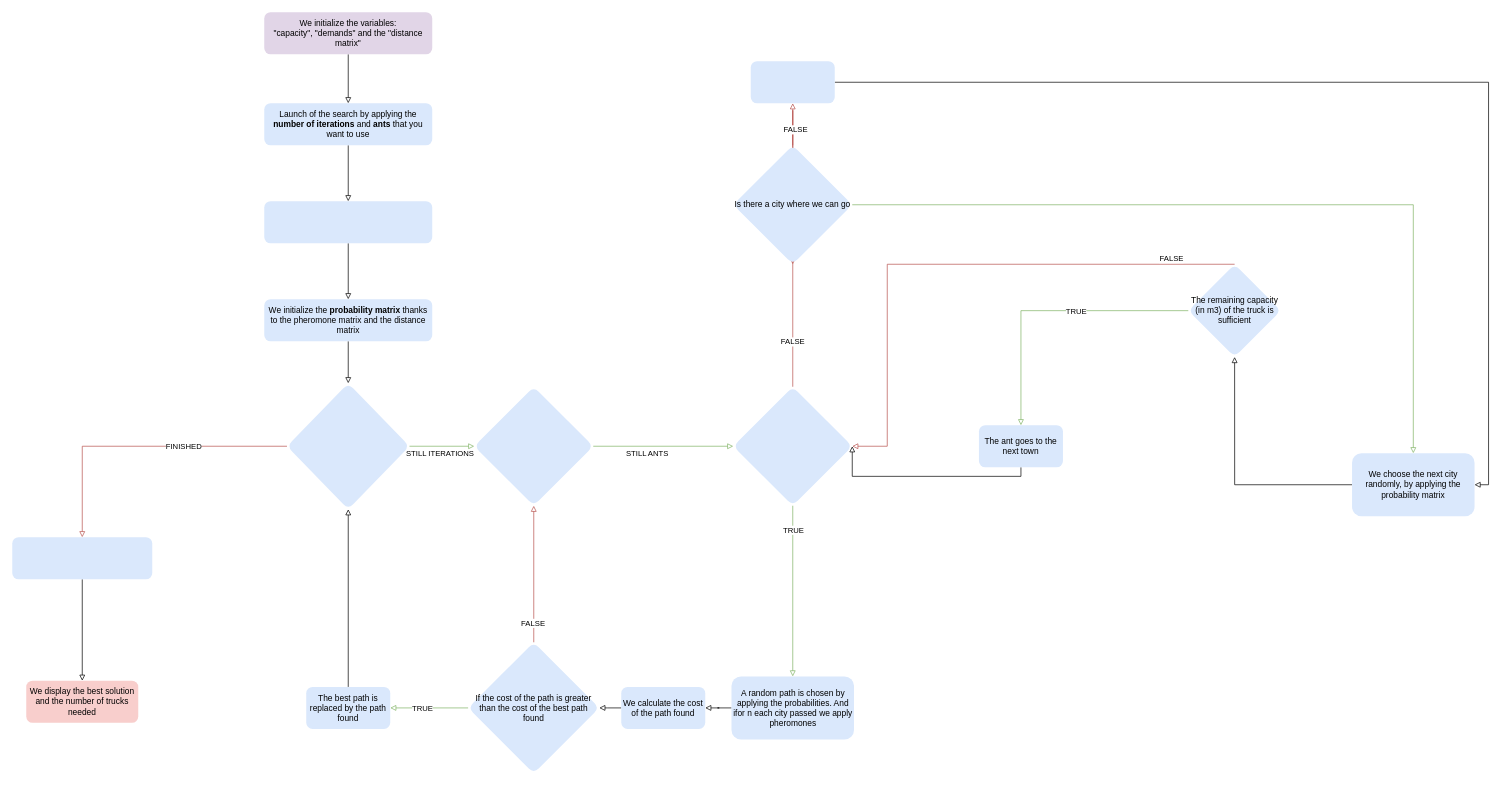
Some shapes in this 1506 by 785 pixel diagram are drawn without their labels. The shapes that lost their labels are listed below. From the top down, each one's centre as x and y in pixels, then its label:
At point (792, 82): "We create an other path to the solution (an other truck)".
At point (348, 222): "We initialize the pheromone map according to the dimension (the number of city)".
At point (348, 446): "For each iteration".
At point (533, 445): "For each ant".
At point (792, 445): "We visited all the cities".
At point (82, 558): "We replace the final solution and its cost with the best solution and its cost".
